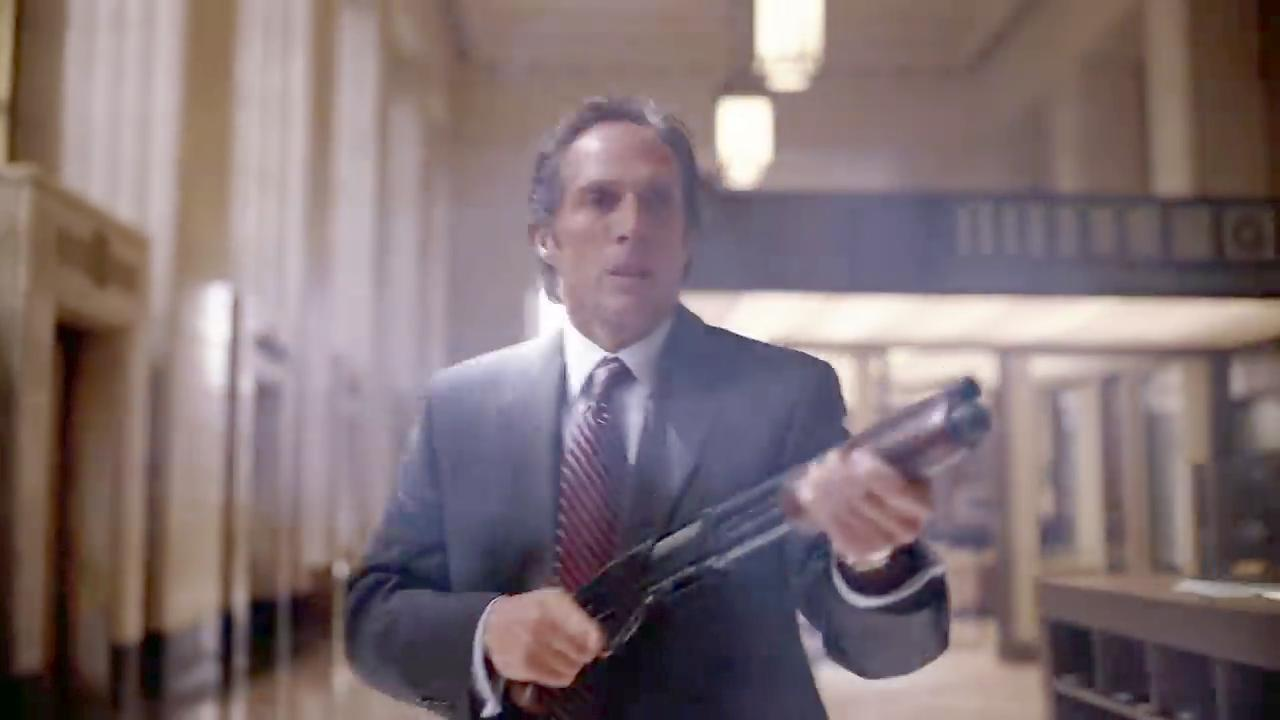gun: (533, 376, 989, 688)
